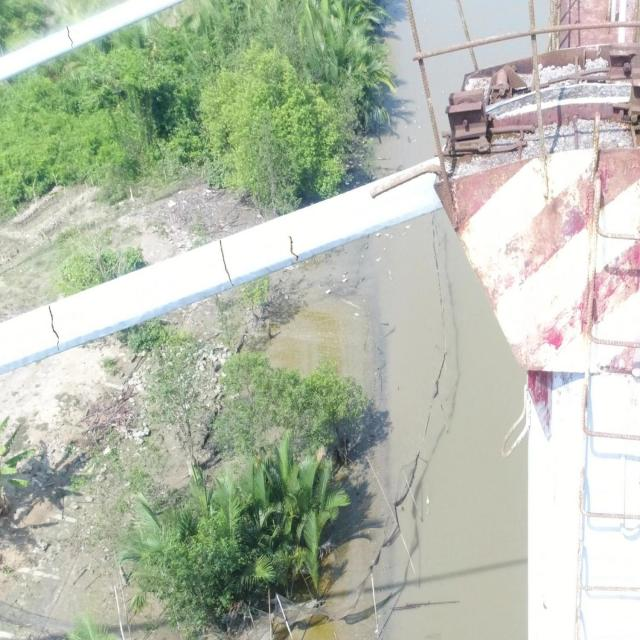crack: (220, 238, 234, 287), (48, 304, 61, 352), (287, 234, 300, 263), (66, 26, 74, 50)
